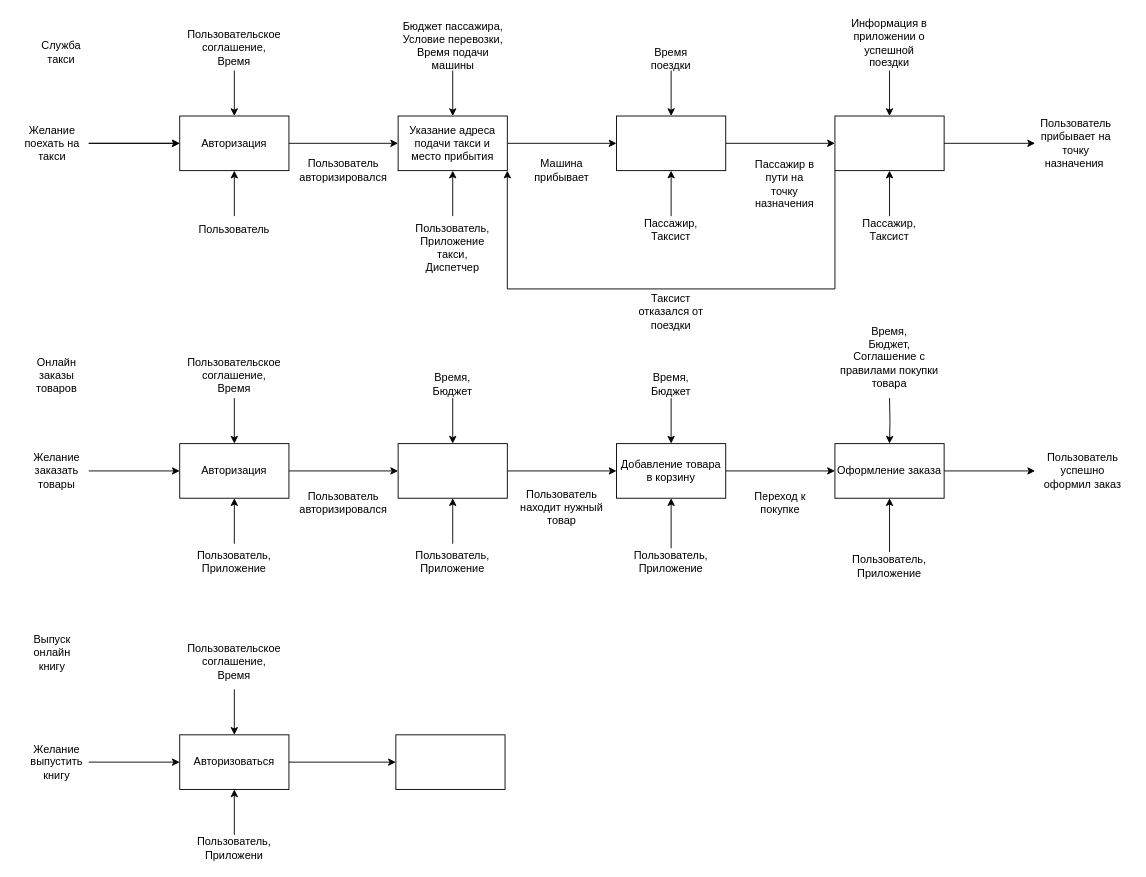
The diagram is 1146 pixels wide and 877 high, and some of its shapes have lost their labels. Each missing label, with the box of its shape:
Перевозка пассажира: (616, 115, 726, 171)
Поездка на такси: (834, 115, 944, 171)
Просмотр каталога: (397, 443, 507, 498)
